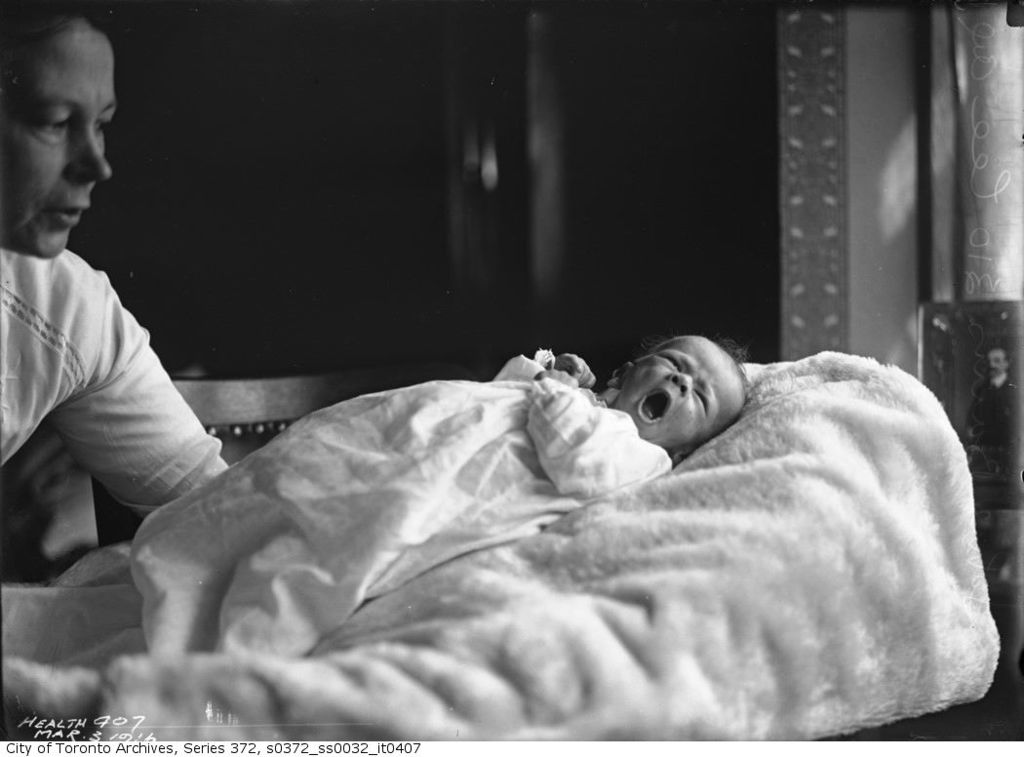Human_hand: (554, 353, 598, 389), (532, 365, 579, 387)
